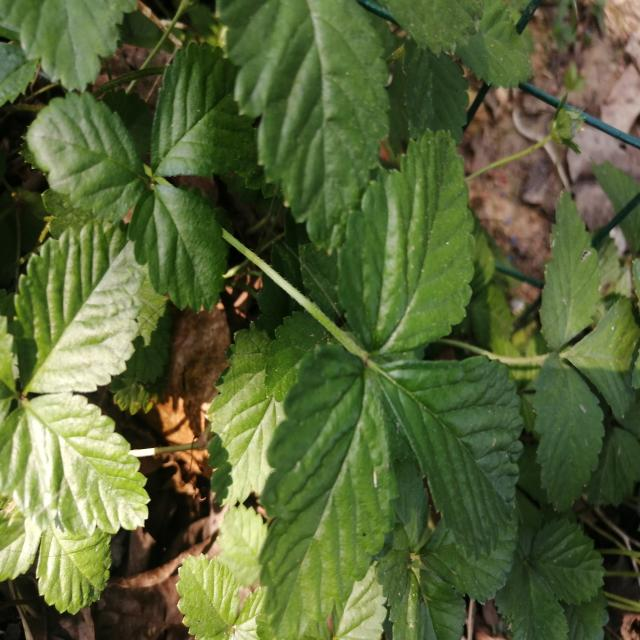Mock_strawberry: (264, 160, 536, 586)
